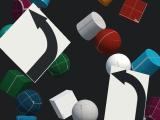Left: (0, 3, 71, 83), (104, 65, 150, 120)
